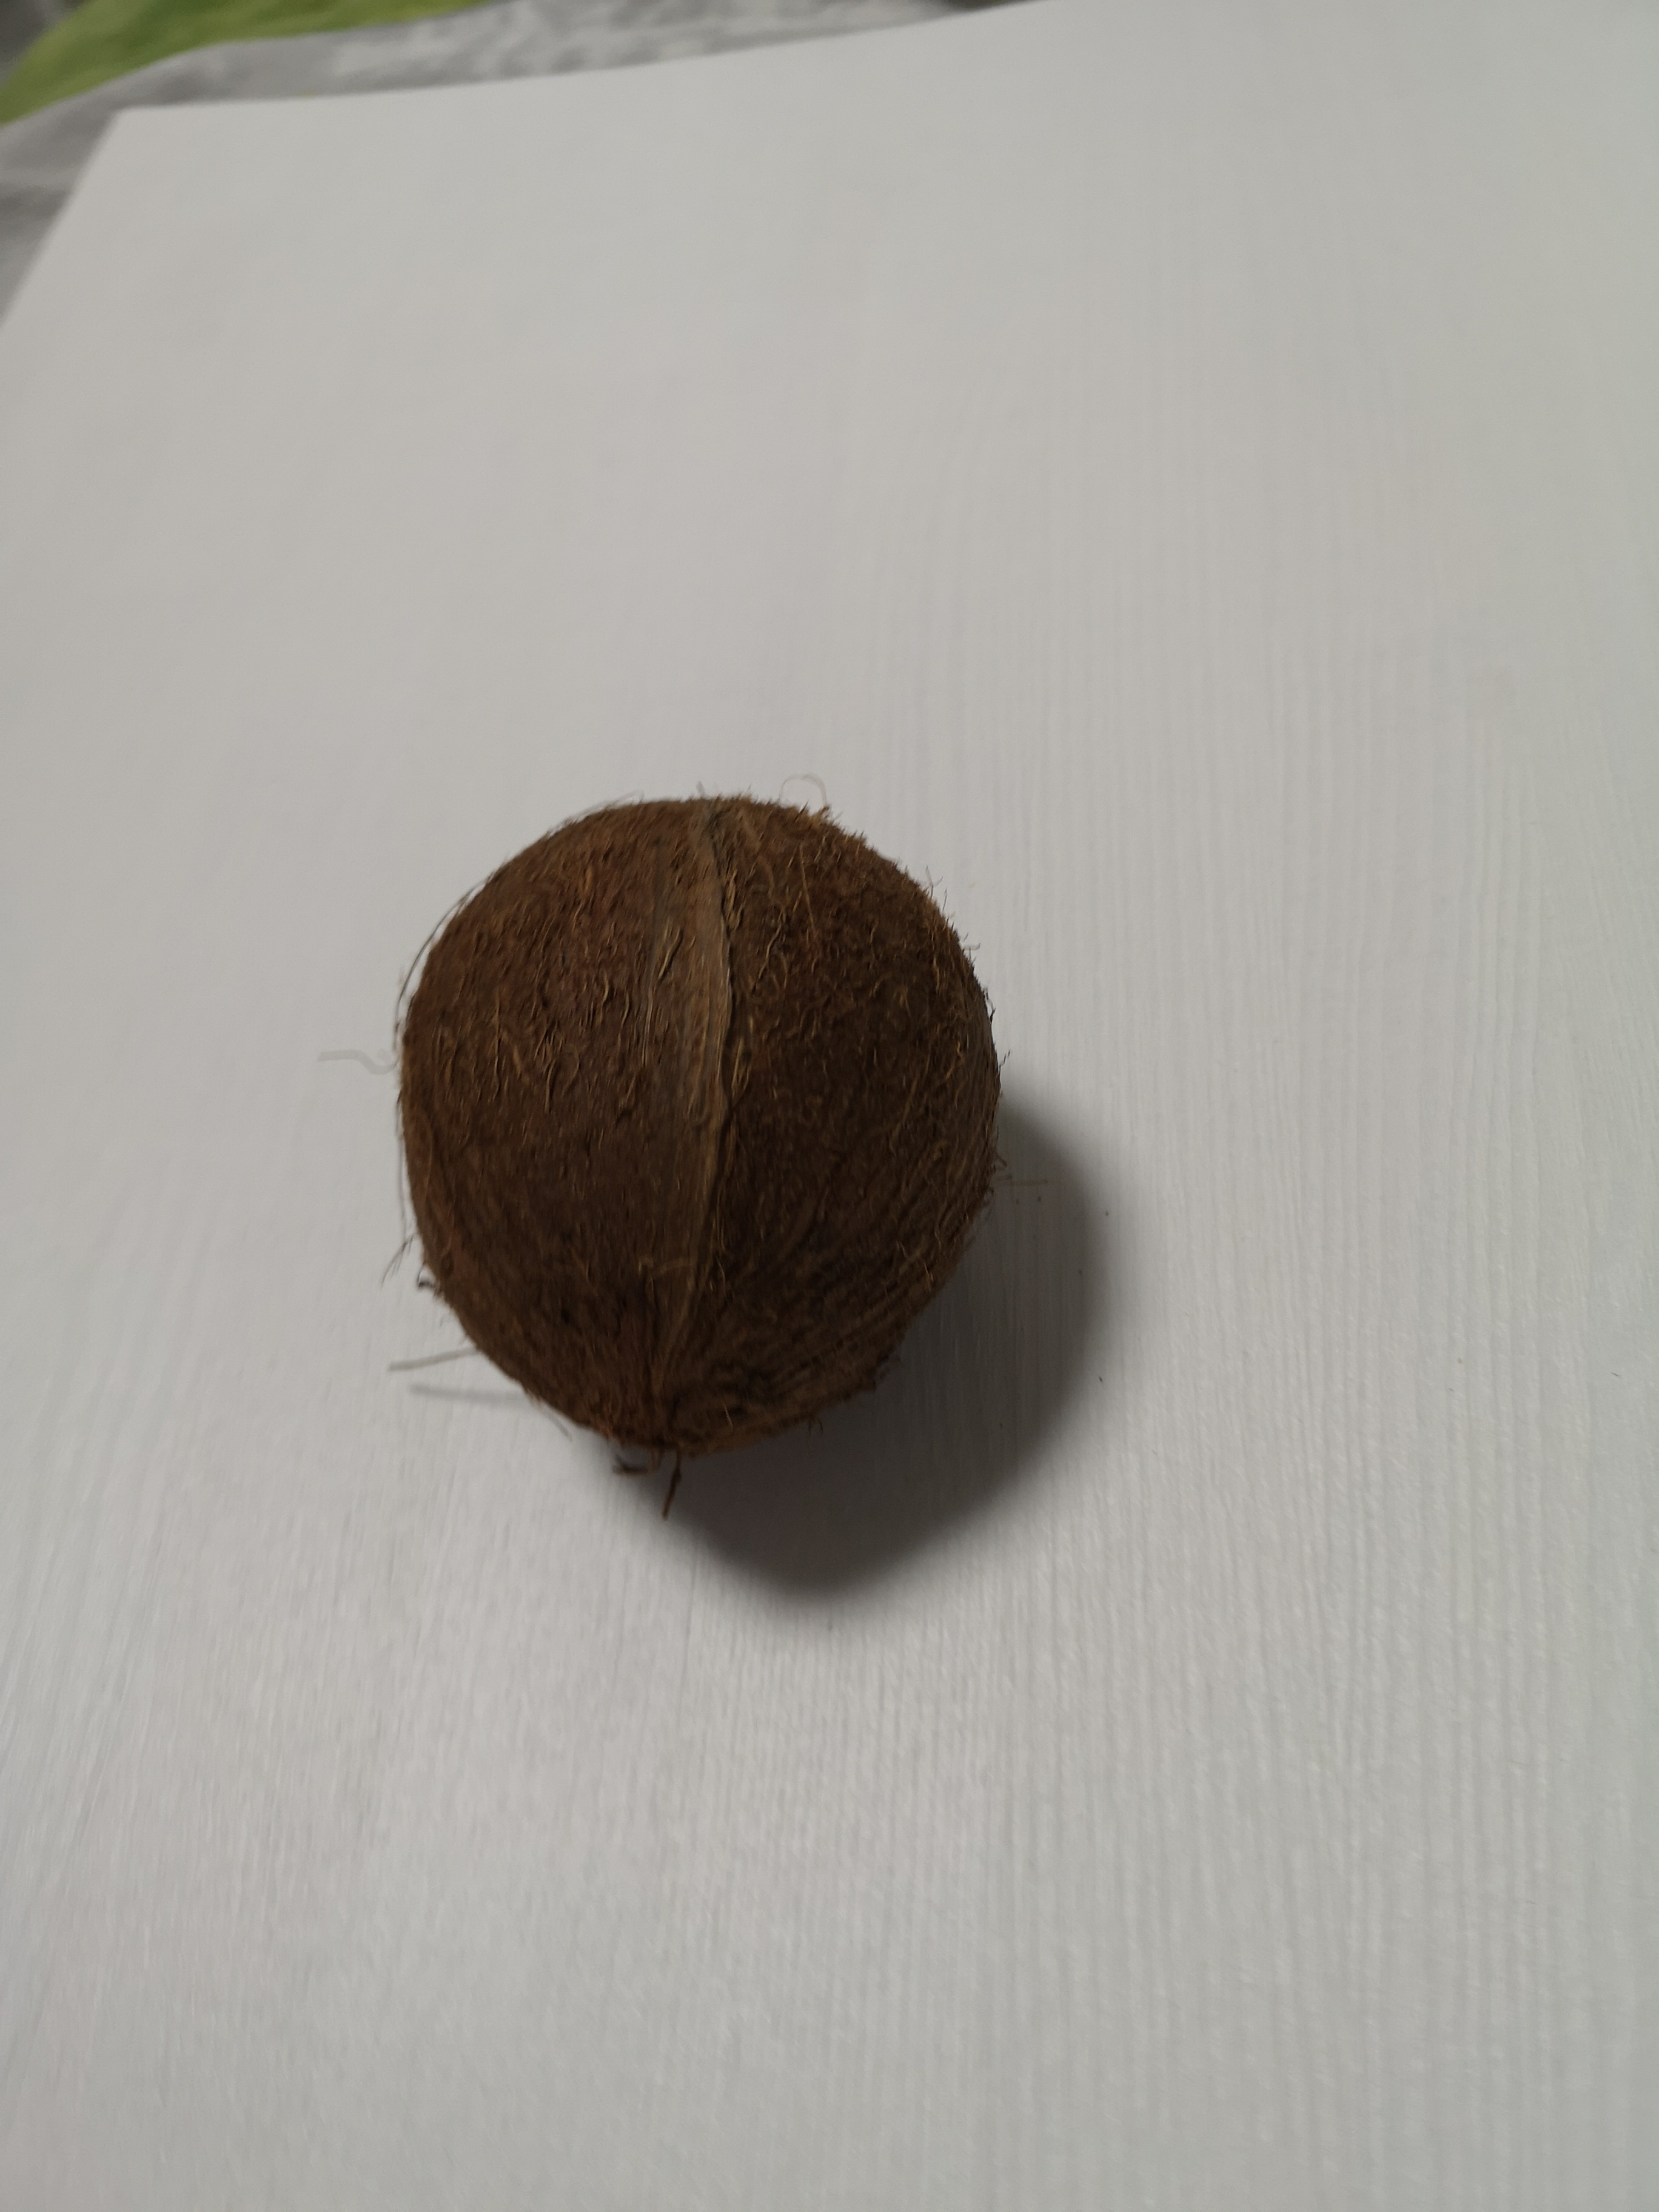coconut: (375, 773, 1032, 1472)
